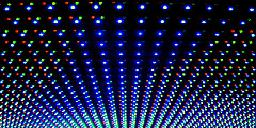LED: (34, 7, 234, 128)
